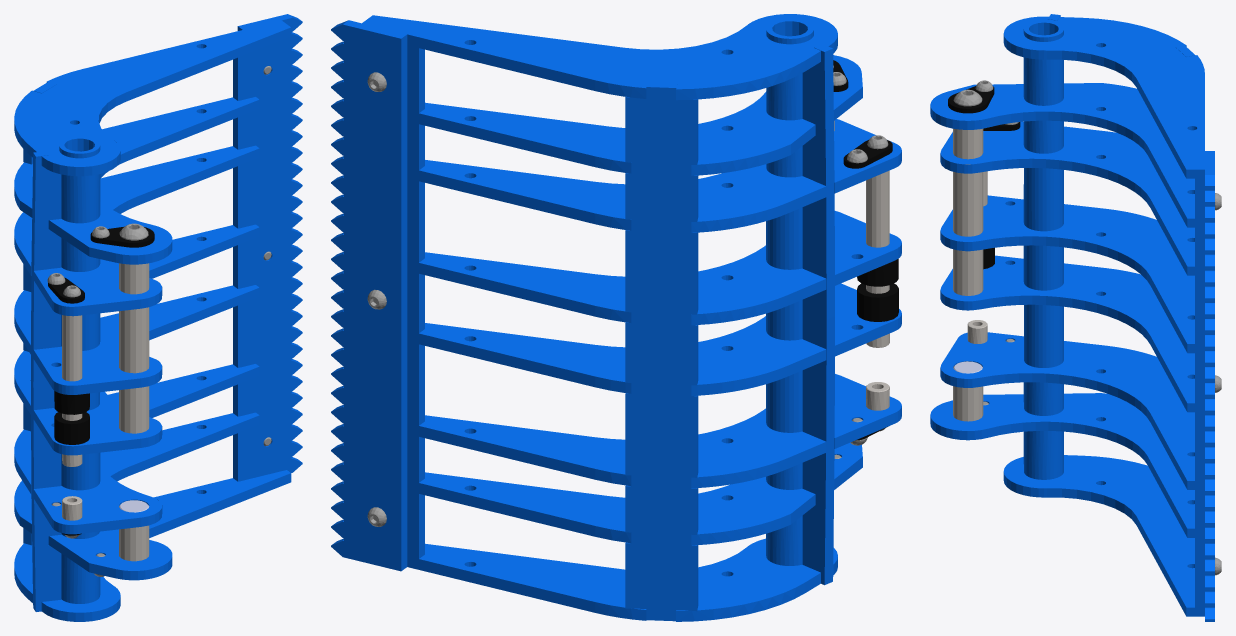
The model's file is gripper_claw_2_visuals_Mesh.obj.
3 views of the same model, side by side, from view 1: azimuth 30°, elevation 25°; view 2: azimuth 150°, elevation 25°; view 3: azimuth 270°, elevation 25° (orthographic). The views are drawn at different scales.
Size of the model in its own units: 0.082 by 0.1 by 0.0579.
